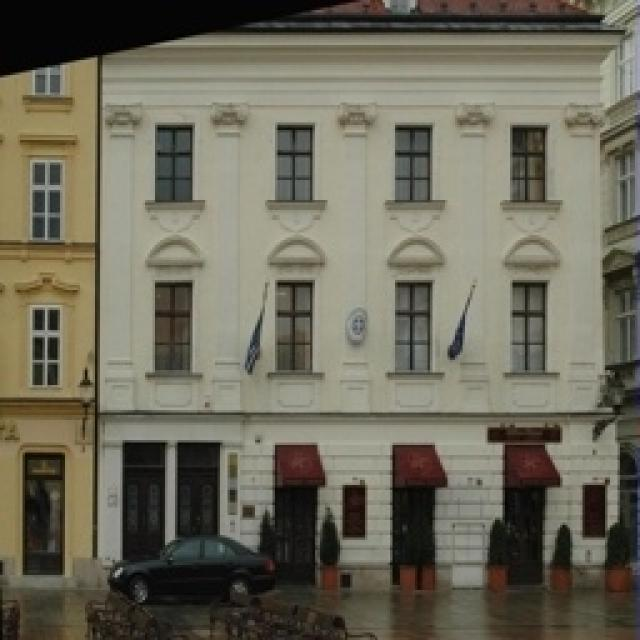building: (95, 0, 622, 592)
